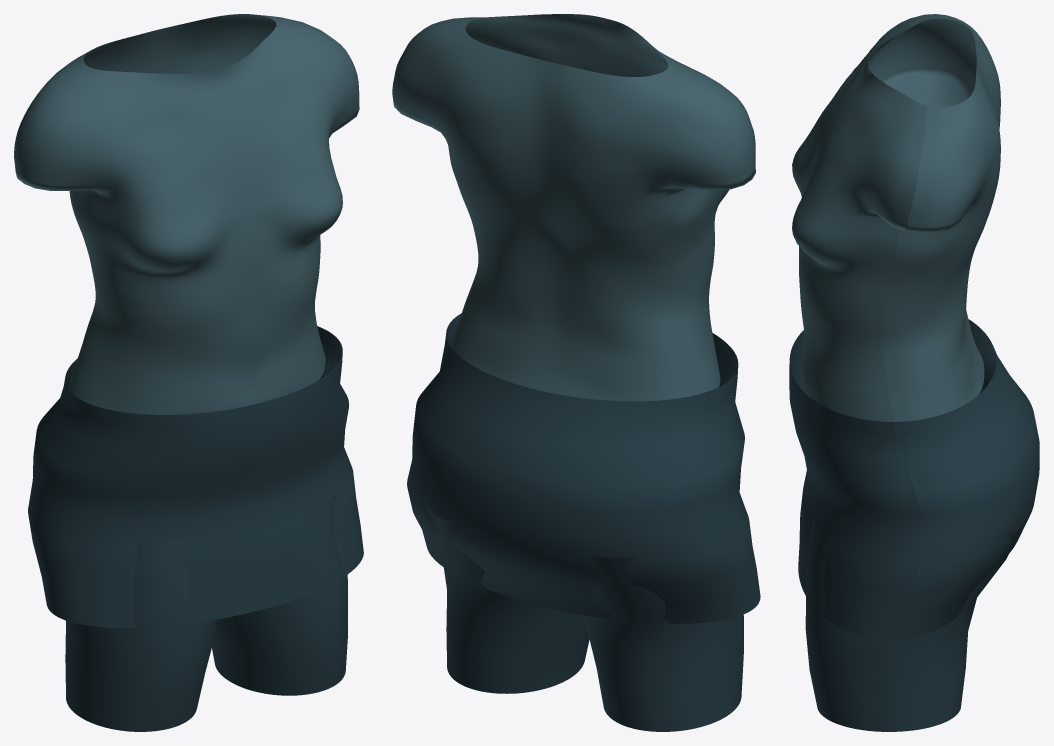
Rendered from clothes-female.glb.
3 views of the same model, side by side, from view 1: azimuth 30°, elevation 25°; view 2: azimuth 150°, elevation 25°; view 3: azimuth 270°, elevation 25° (orthographic). The views are drawn at different scales.
Parts seen in each view (by area): view 1: clothing (×4); view 2: clothing (×4); view 3: clothing (×3).
Part boxes in pixels (bbox=[...]): clothing (×4): bbox=[14, 14, 363, 731]; clothing (×4): bbox=[392, 14, 760, 731]; clothing (×3): bbox=[789, 14, 1039, 731].
Bounding box in the file's own units: 0.4525 × 0.81 × 0.3028.
